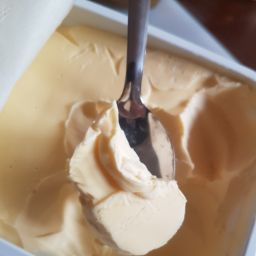Butter: (8, 24, 256, 256)
